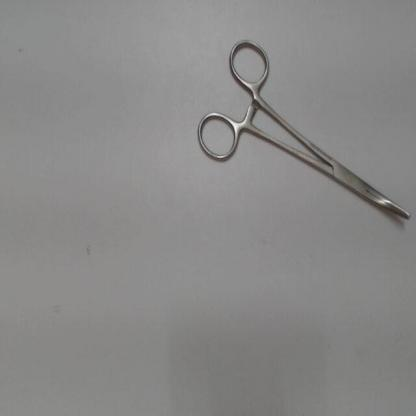Crile Artery Forceps: (192, 31, 415, 230)
